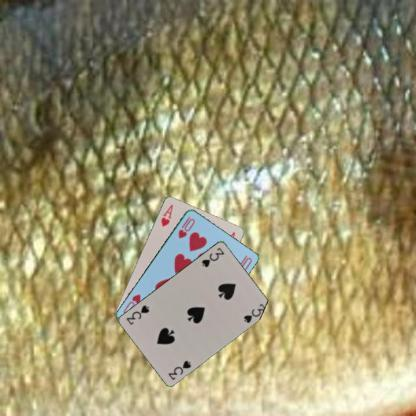10h: (176, 214, 197, 239)
3s: (199, 244, 225, 268), (166, 358, 192, 381)
Ah: (158, 202, 174, 228)
